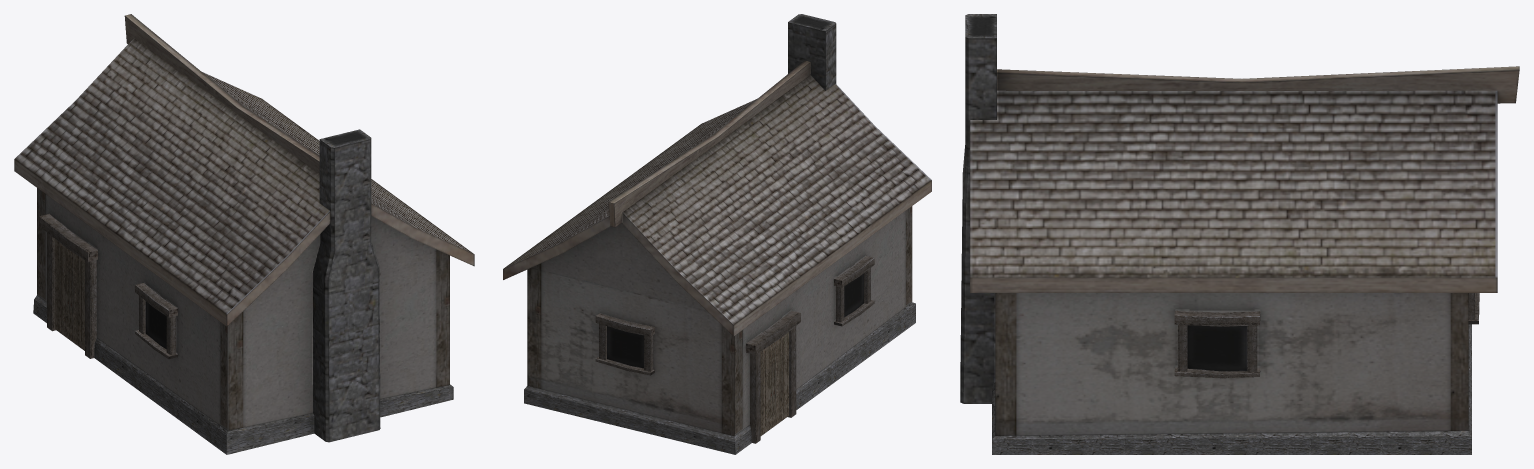
The model's file is house_01.FBX.
3 views of the same model, side by side, from view 1: azimuth 30°, elevation 25°; view 2: azimuth 150°, elevation 25°; view 3: azimuth 270°, elevation 25° (orthographic). The views are drawn at different scales.
Parts seen in each view (by area): view 1: Box001; view 2: Box001; view 3: Box001.
Boxes of the visible parts, left/top/right/bottom form: Box001: left=14, top=14, right=474, bottom=454; Box001: left=503, top=14, right=931, bottom=454; Box001: left=960, top=14, right=1519, bottom=454.
Bounding box in the file's own units: 44.54 × 70.28 × 50.07.
